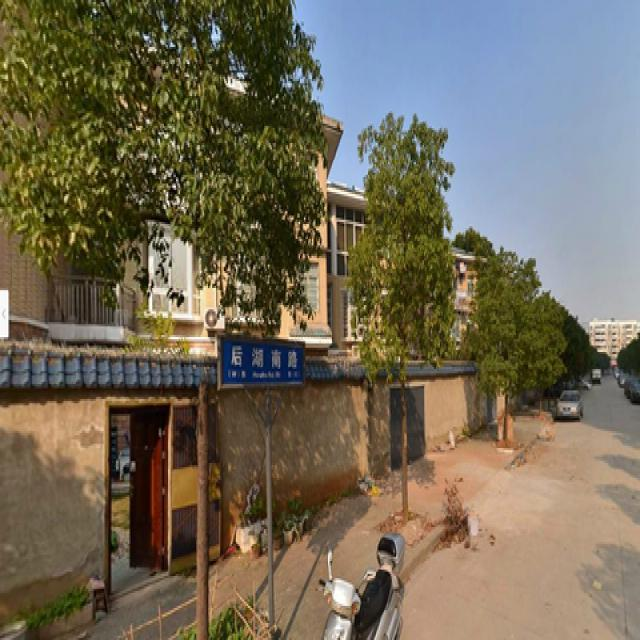cinn: (354, 115, 450, 512)
